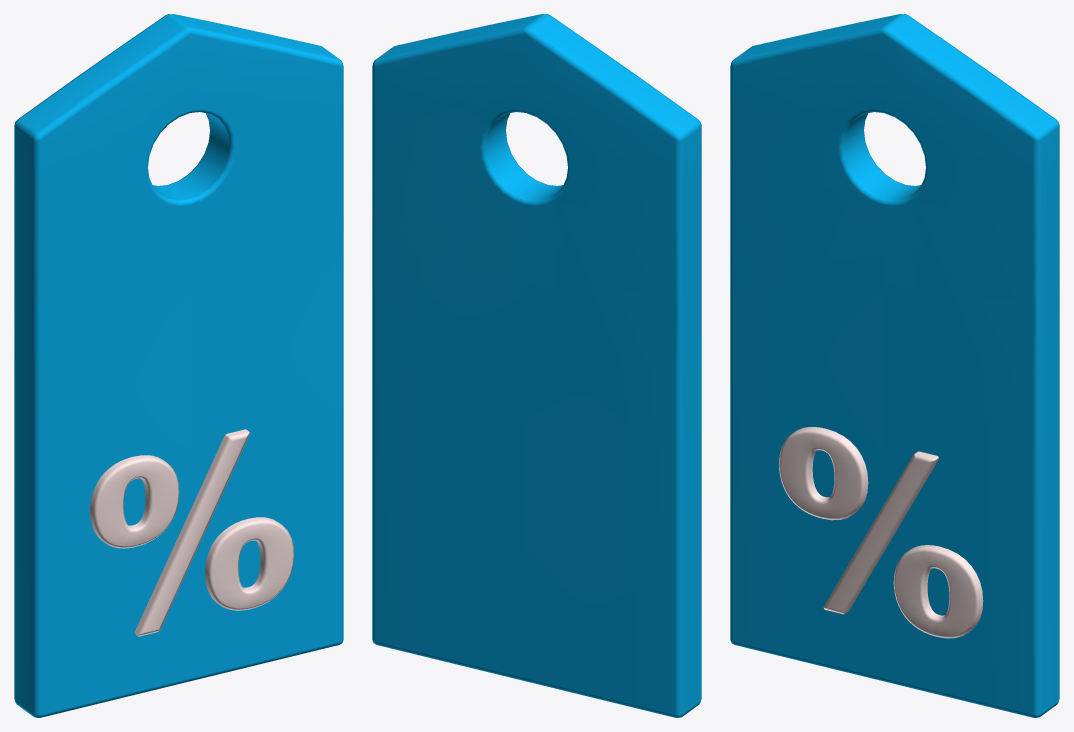
The model's file is Public_10_Label_1.glb.
The picture shows the model from 3 angles, left to right: view 1: azimuth 30°, elevation 25°; view 2: azimuth 150°, elevation 25°; view 3: azimuth 330°, elevation 25°; orthographic projection.
Parts seen in each view (by area): view 1: Public_10_Label_1; view 2: Public_10_Label_1; view 3: Public_10_Label_1.
Part boxes in pixels (bbox=[...]): Public_10_Label_1: bbox=[14, 14, 343, 717]; Public_10_Label_1: bbox=[372, 14, 701, 717]; Public_10_Label_1: bbox=[730, 14, 1059, 717].
Bounding box in the file's own units: 4.91 × 9.9 × 0.7832.
Materials: 1 (1 with a texture image).
